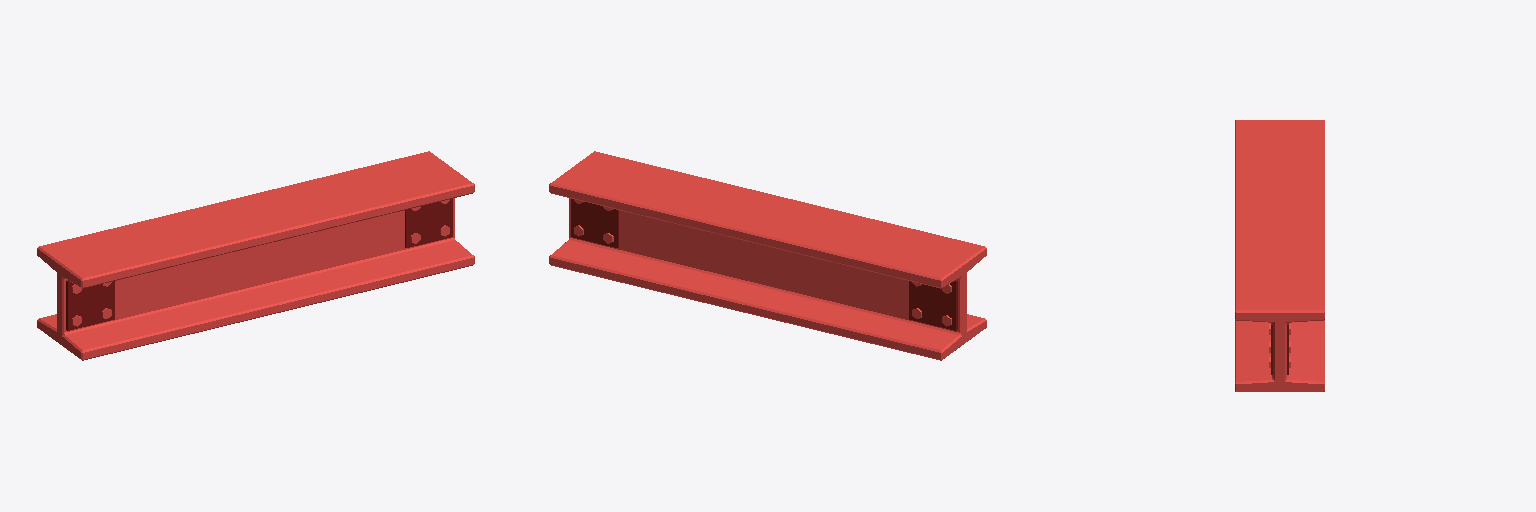
The model's file is steelBeam.obj.
3 renders of one model, left to right at view 1: azimuth 30°, elevation 25°; view 2: azimuth 150°, elevation 25°; view 3: azimuth 270°, elevation 25°, orthographic.
Visible parts, largest first — view 1: steelBeam_geo, plate_geo.001, plate_geo.002; view 2: steelBeam_geo, plate_geo.001, plate_geo.002; view 3: steelBeam_geo.
Boxes of the visible parts, <box> form: steelBeam_geo: <box>37,151,474,360</box>; plate_geo.001: <box>66,280,114,330</box>; plate_geo.002: <box>405,199,452,247</box>; steelBeam_geo: <box>549,151,986,360</box>; plate_geo.001: <box>909,280,957,330</box>; plate_geo.002: <box>571,199,618,247</box>; steelBeam_geo: <box>1235,120,1324,391</box>.
Size of the model in its own units: 5 by 1 by 1.